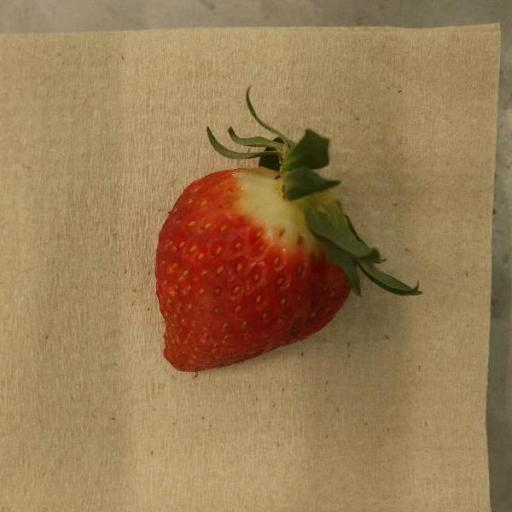Strawberry: (154, 120, 420, 372)
